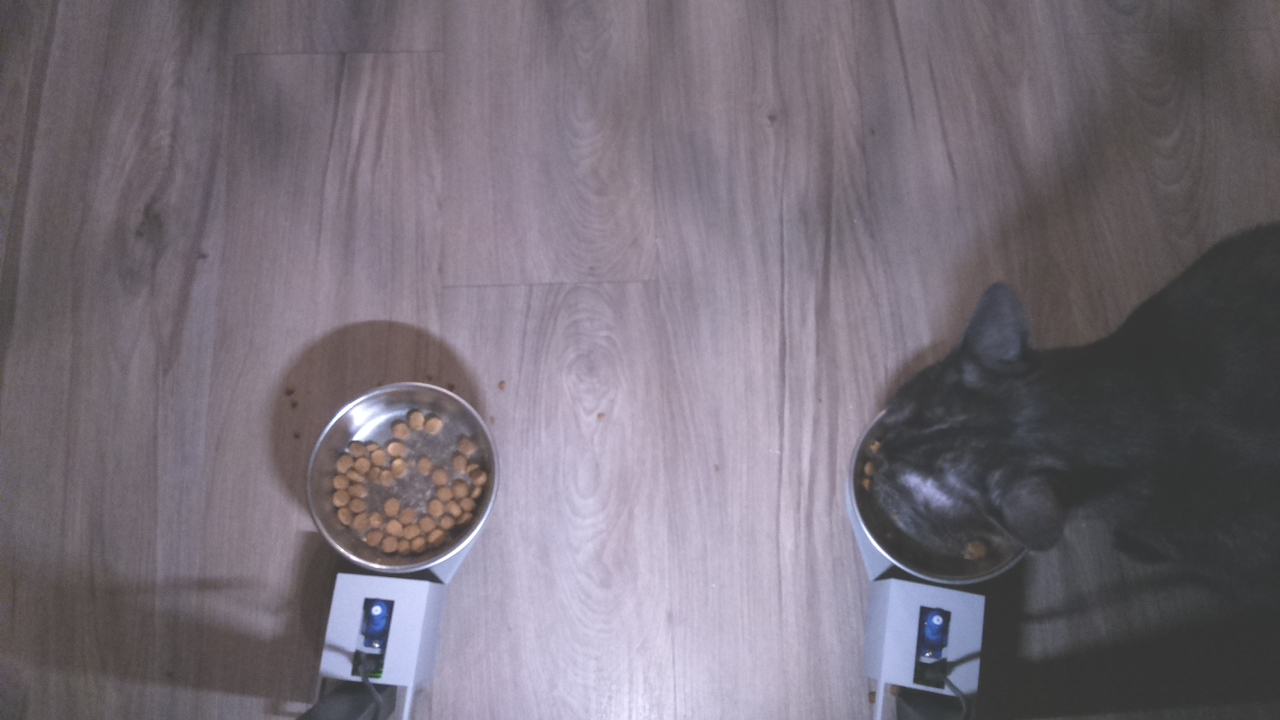open_bowl: (295, 377, 507, 572)
saki_eating: (840, 276, 1121, 600)
